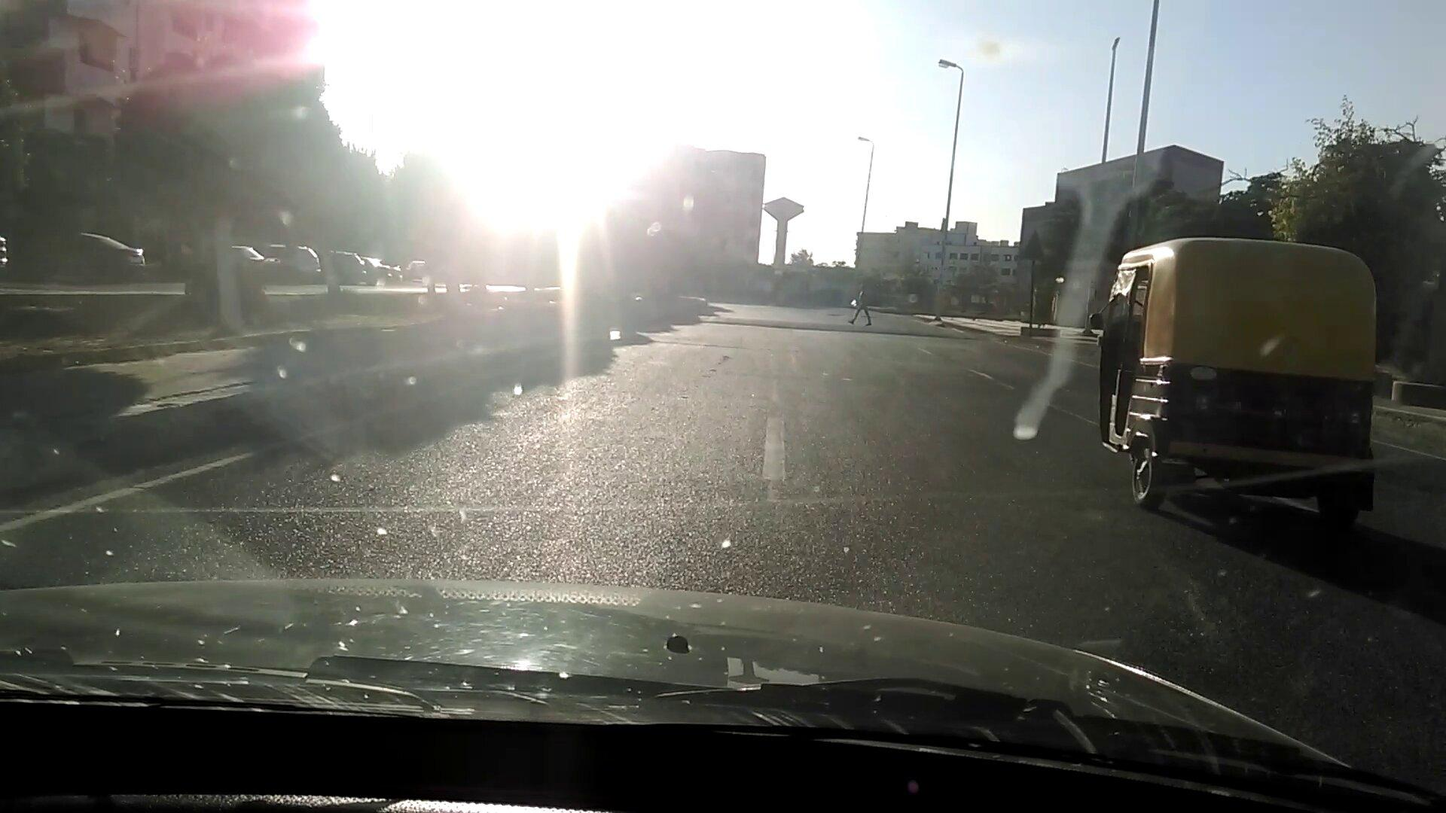Bump: (693, 316, 977, 343)
